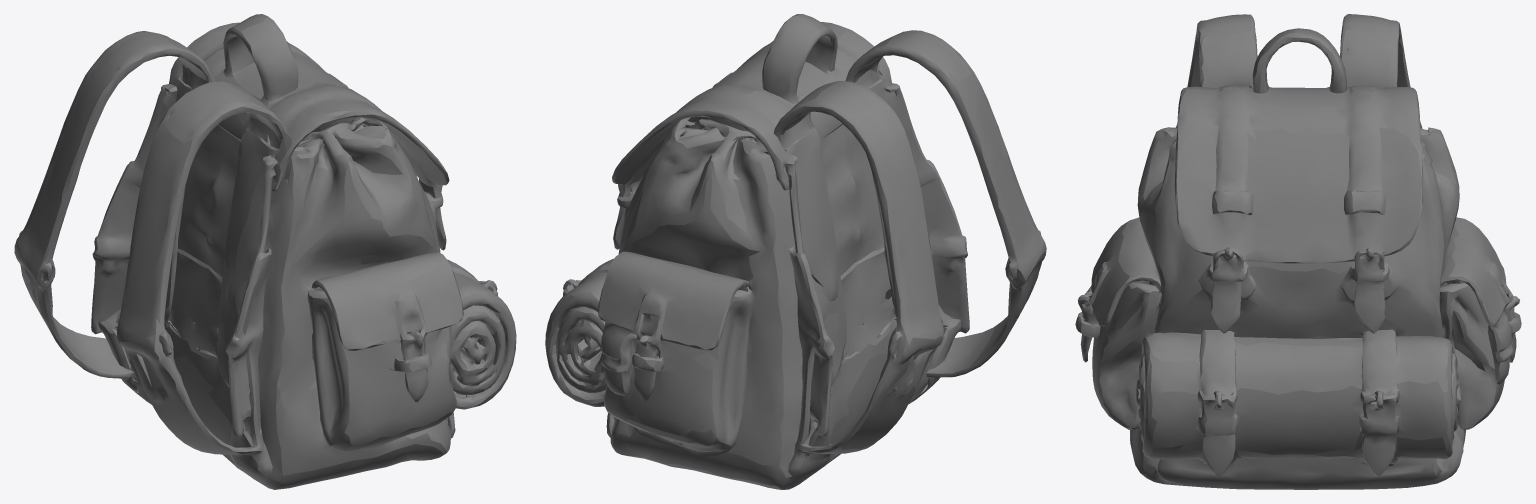
The model's file is completion_backpack_2.glb.
3 views of the same model, side by side, from view 1: azimuth 30°, elevation 25°; view 2: azimuth 150°, elevation 25°; view 3: azimuth 270°, elevation 25° (orthographic).
Visible parts, largest first — view 1: geometry_0; view 2: geometry_0; view 3: geometry_0.
Part boxes in pixels (box(x1,y1,x2,y2)): geometry_0: box(14, 14, 516, 489); geometry_0: box(545, 14, 1046, 489); geometry_0: box(1075, 14, 1521, 489).
Size of the model in its own units: 0.9447 by 1 by 0.9796.
Materials: 1 (1 with a texture image).
